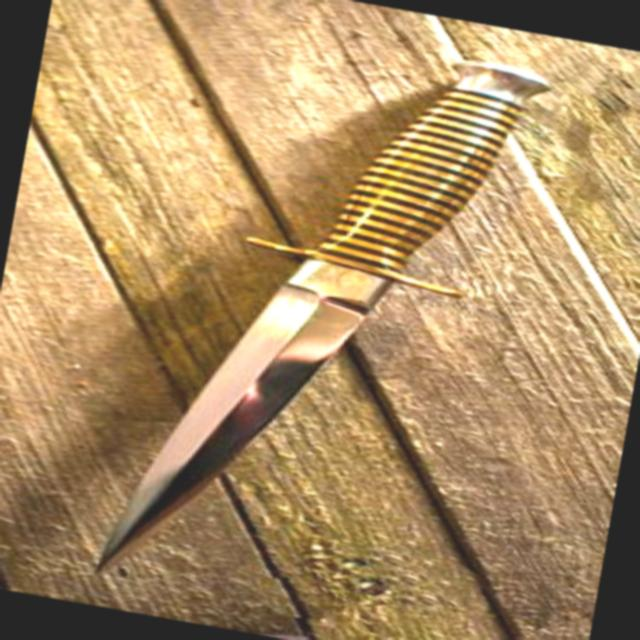short sword: (72, 2, 570, 638)
